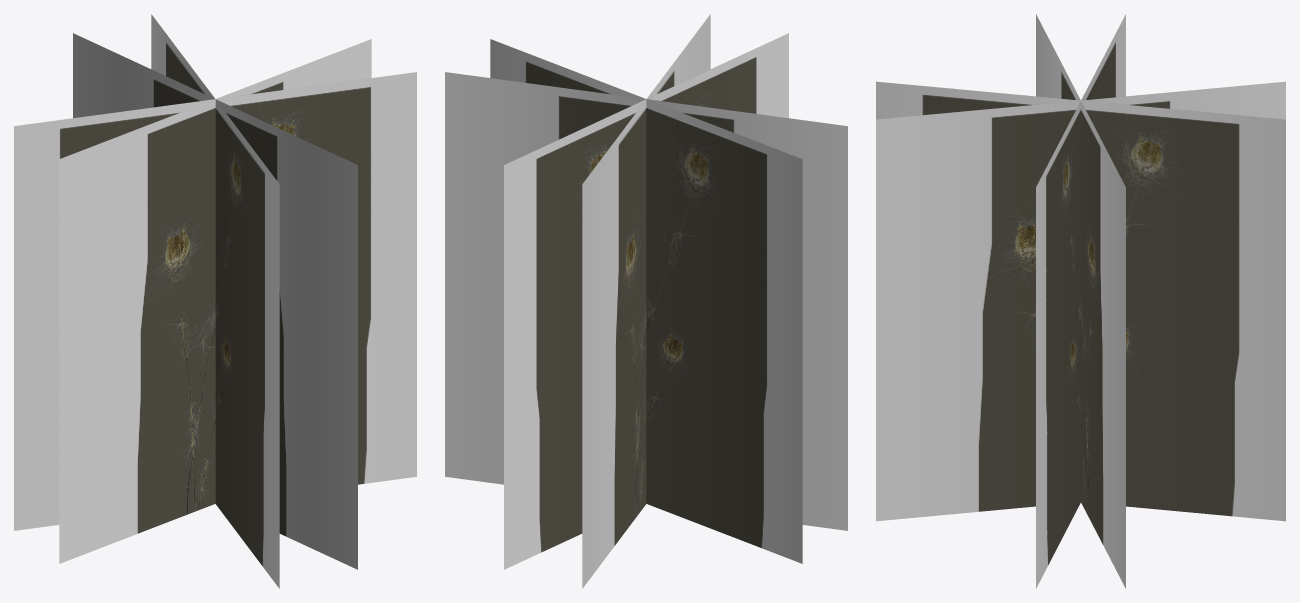
File: TerrainGrass04 Variant.fbx
3 renders of one model, left to right at view 1: azimuth 30°, elevation 25°; view 2: azimuth 150°, elevation 25°; view 3: azimuth 270°, elevation 25°, orthographic.
Visible parts, largest first — view 1: TerrainGrass04_Variant; view 2: TerrainGrass04_Variant; view 3: TerrainGrass04_Variant.
Boxes of the visible parts, left/top/right/bottom form: TerrainGrass04_Variant: left=14, top=14, right=416, bottom=588; TerrainGrass04_Variant: left=445, top=14, right=847, bottom=588; TerrainGrass04_Variant: left=876, top=14, right=1285, bottom=588.
Bounding box in the file's own units: 99.98 × 108 × 99.98.
